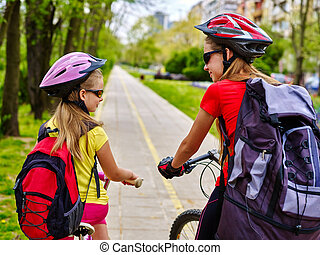helmet: (194, 13, 273, 83), (38, 52, 109, 113)
